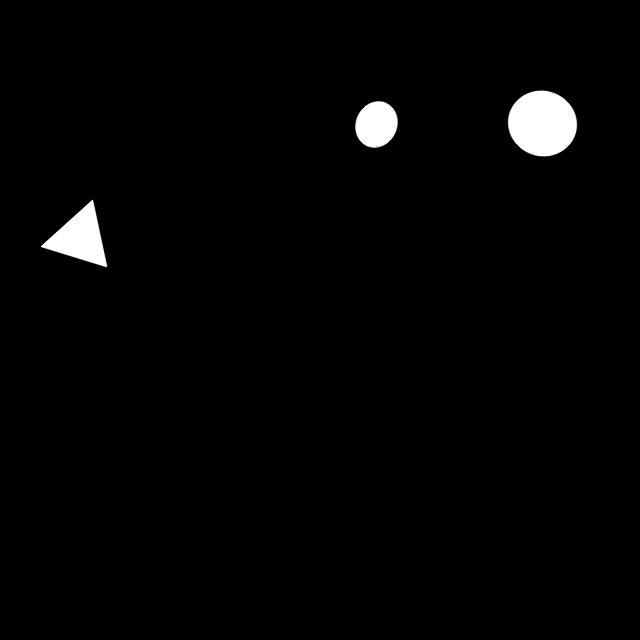Circle: (502, 80, 587, 165), (347, 96, 406, 156)
Triangle: (29, 183, 115, 289)
